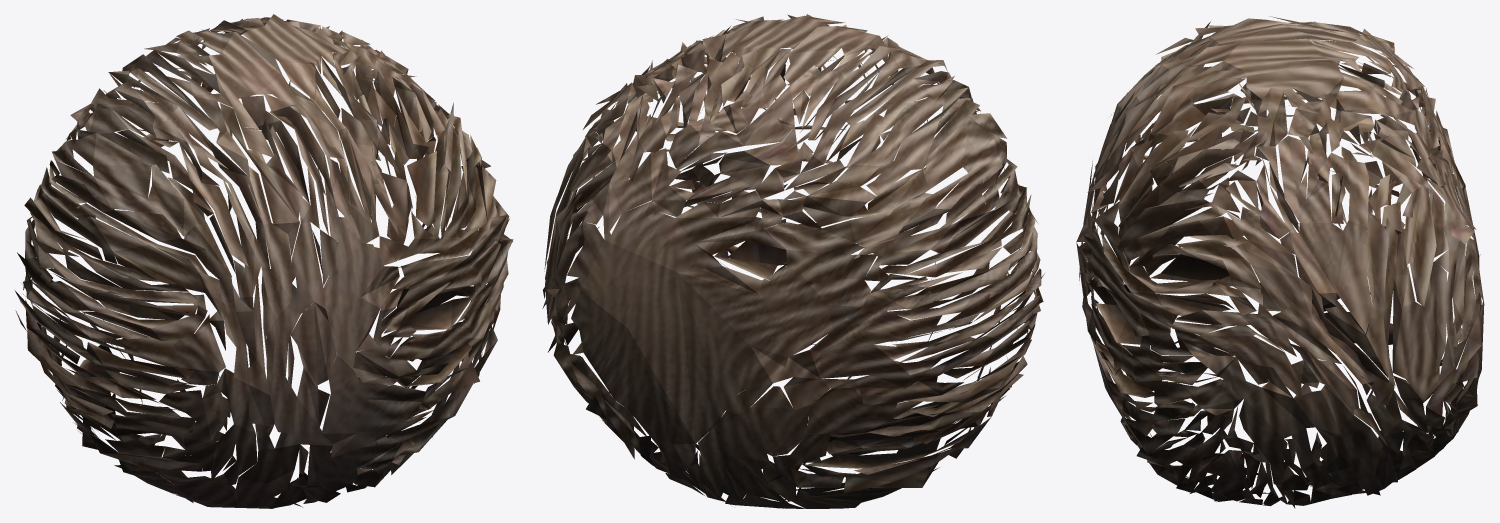
Rendered from j-sphere-sculptee.glb.
3 renders of one model, left to right at view 1: azimuth 30°, elevation 25°; view 2: azimuth 150°, elevation 25°; view 3: azimuth 270°, elevation 25°, orthographic.
Parts seen in each view (by area): view 1: geometry_0; view 2: geometry_0; view 3: geometry_0.
Boxes of the visible parts, x1,y1,x2,y2 form: geometry_0: (15, 14, 513, 508); geometry_0: (542, 14, 1044, 508); geometry_0: (1076, 16, 1484, 508).
Size of the model in its own units: 0.506 by 0.4986 by 0.4196.
1 material, 1 textured.
